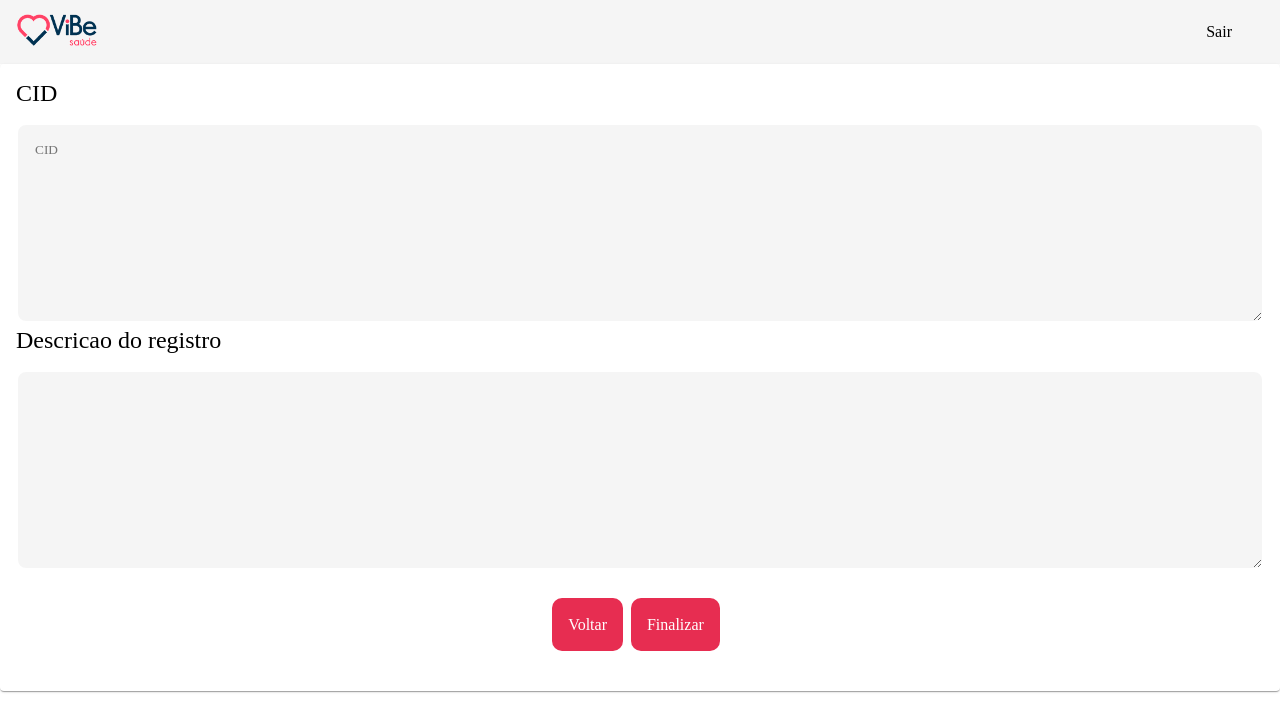
Test: Consultation Record › should be an error
The width and height of the screenshot is (1280, 720).
Click the button "Finalizar": (676, 625) top-left (631, 598), bottom-right (720, 651)
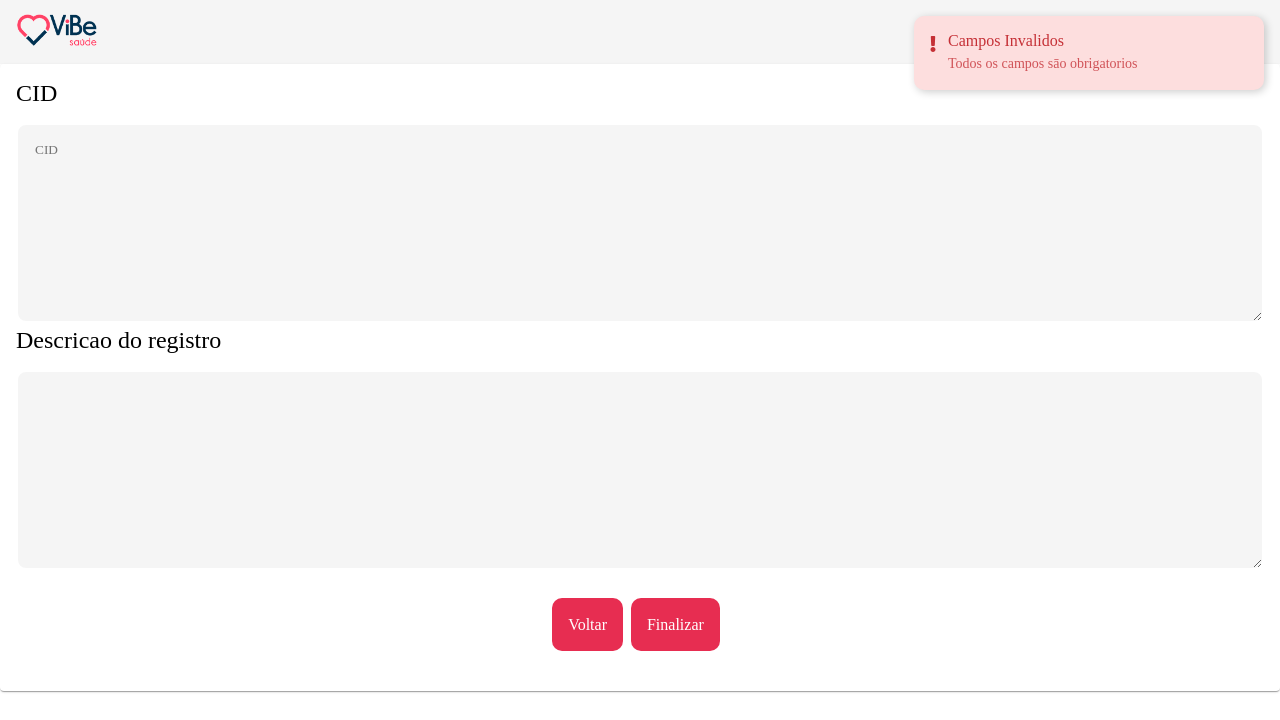
Expected: the text "Campos Invalidos" is shown, top-left (948, 32), bottom-right (1064, 49)
